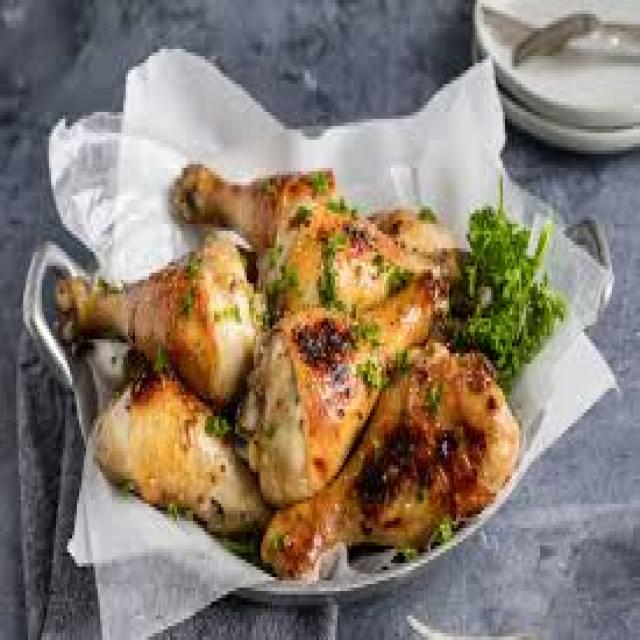Frango: (49, 119, 519, 556)
